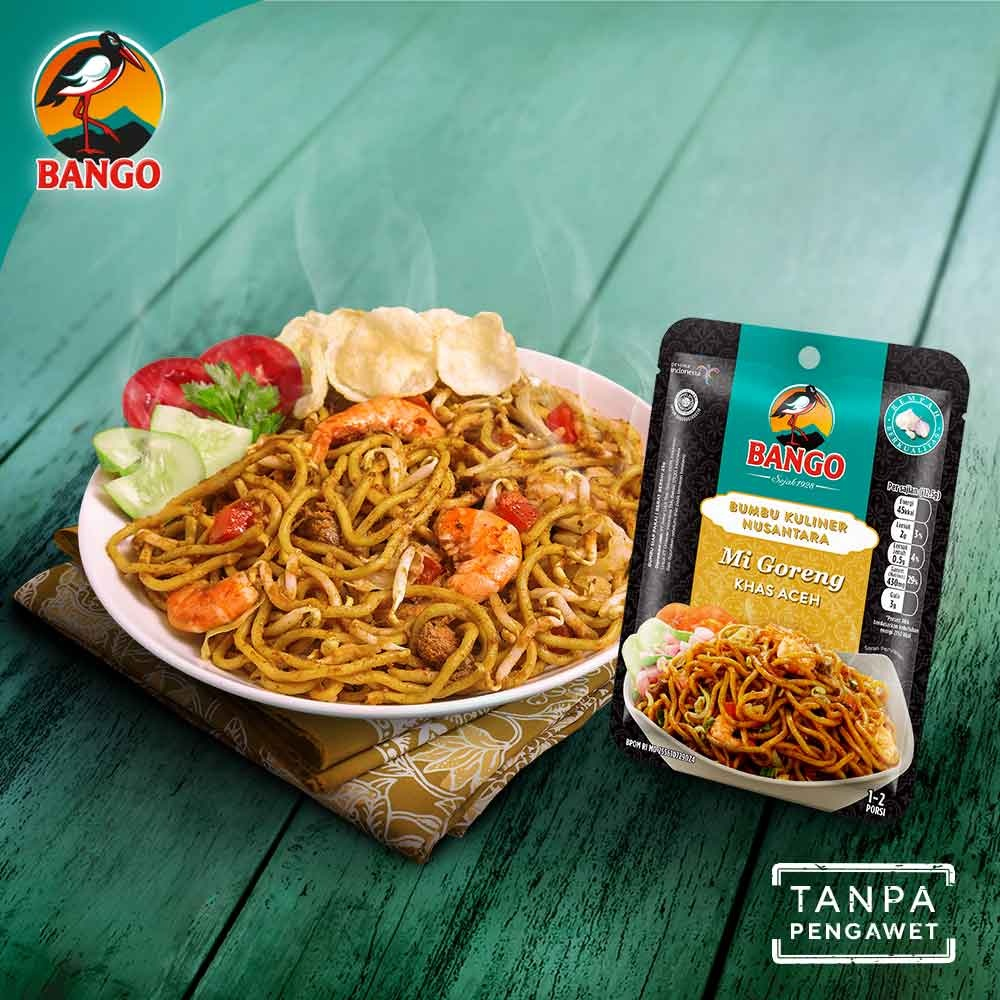mie_aceh: (109, 400, 647, 698)
